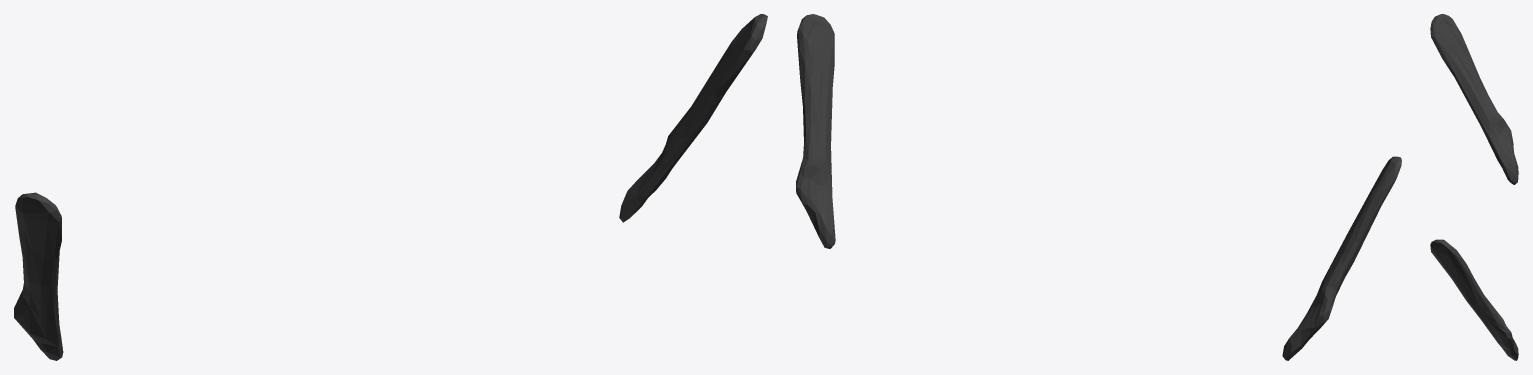
The model's file is lig_lateral_patellar.glb.
The picture shows the model from 3 angles, left to right: view 1: azimuth 30°, elevation 25°; view 2: azimuth 150°, elevation 25°; view 3: azimuth 270°, elevation 25°; orthographic projection. The views are drawn at different scales.
Visible parts, largest first — view 1: lig_lateral_patellar; view 2: lig_lateral_patellar; view 3: lig_lateral_patellar.
Part boxes in pixels (box(x1,y1,x2,y2)): lig_lateral_patellar: box(14, 14, 767, 360); lig_lateral_patellar: box(796, 14, 1401, 360); lig_lateral_patellar: box(1430, 14, 1518, 360).
Size of the model in its own units: 0.00731 by 0.00215 by 0.00118.
1 material, 1 textured.
